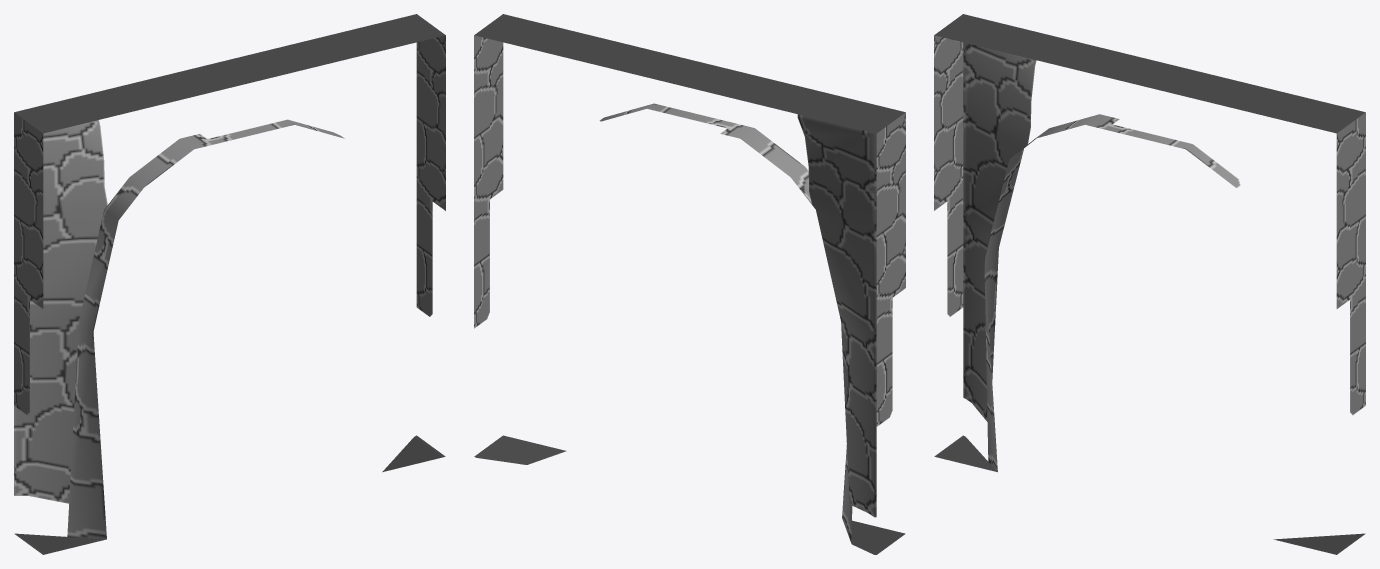
The model's file is entry_rock_arc.fbx.
The picture shows the model from 3 angles, left to right: view 1: azimuth 30°, elevation 25°; view 2: azimuth 150°, elevation 25°; view 3: azimuth 330°, elevation 25°; orthographic projection.
Visible parts, largest first — view 1: wall_rock_0001:wall; view 2: wall_rock_0001:wall; view 3: wall_rock_0001:wall.
Part boxes in pixels (x1,y1,x2,y2): wall_rock_0001:wall: [14, 14, 445, 554]; wall_rock_0001:wall: [474, 14, 905, 554]; wall_rock_0001:wall: [934, 14, 1365, 554].
Size of the model in its own units: 4 by 4.09 by 0.5.
